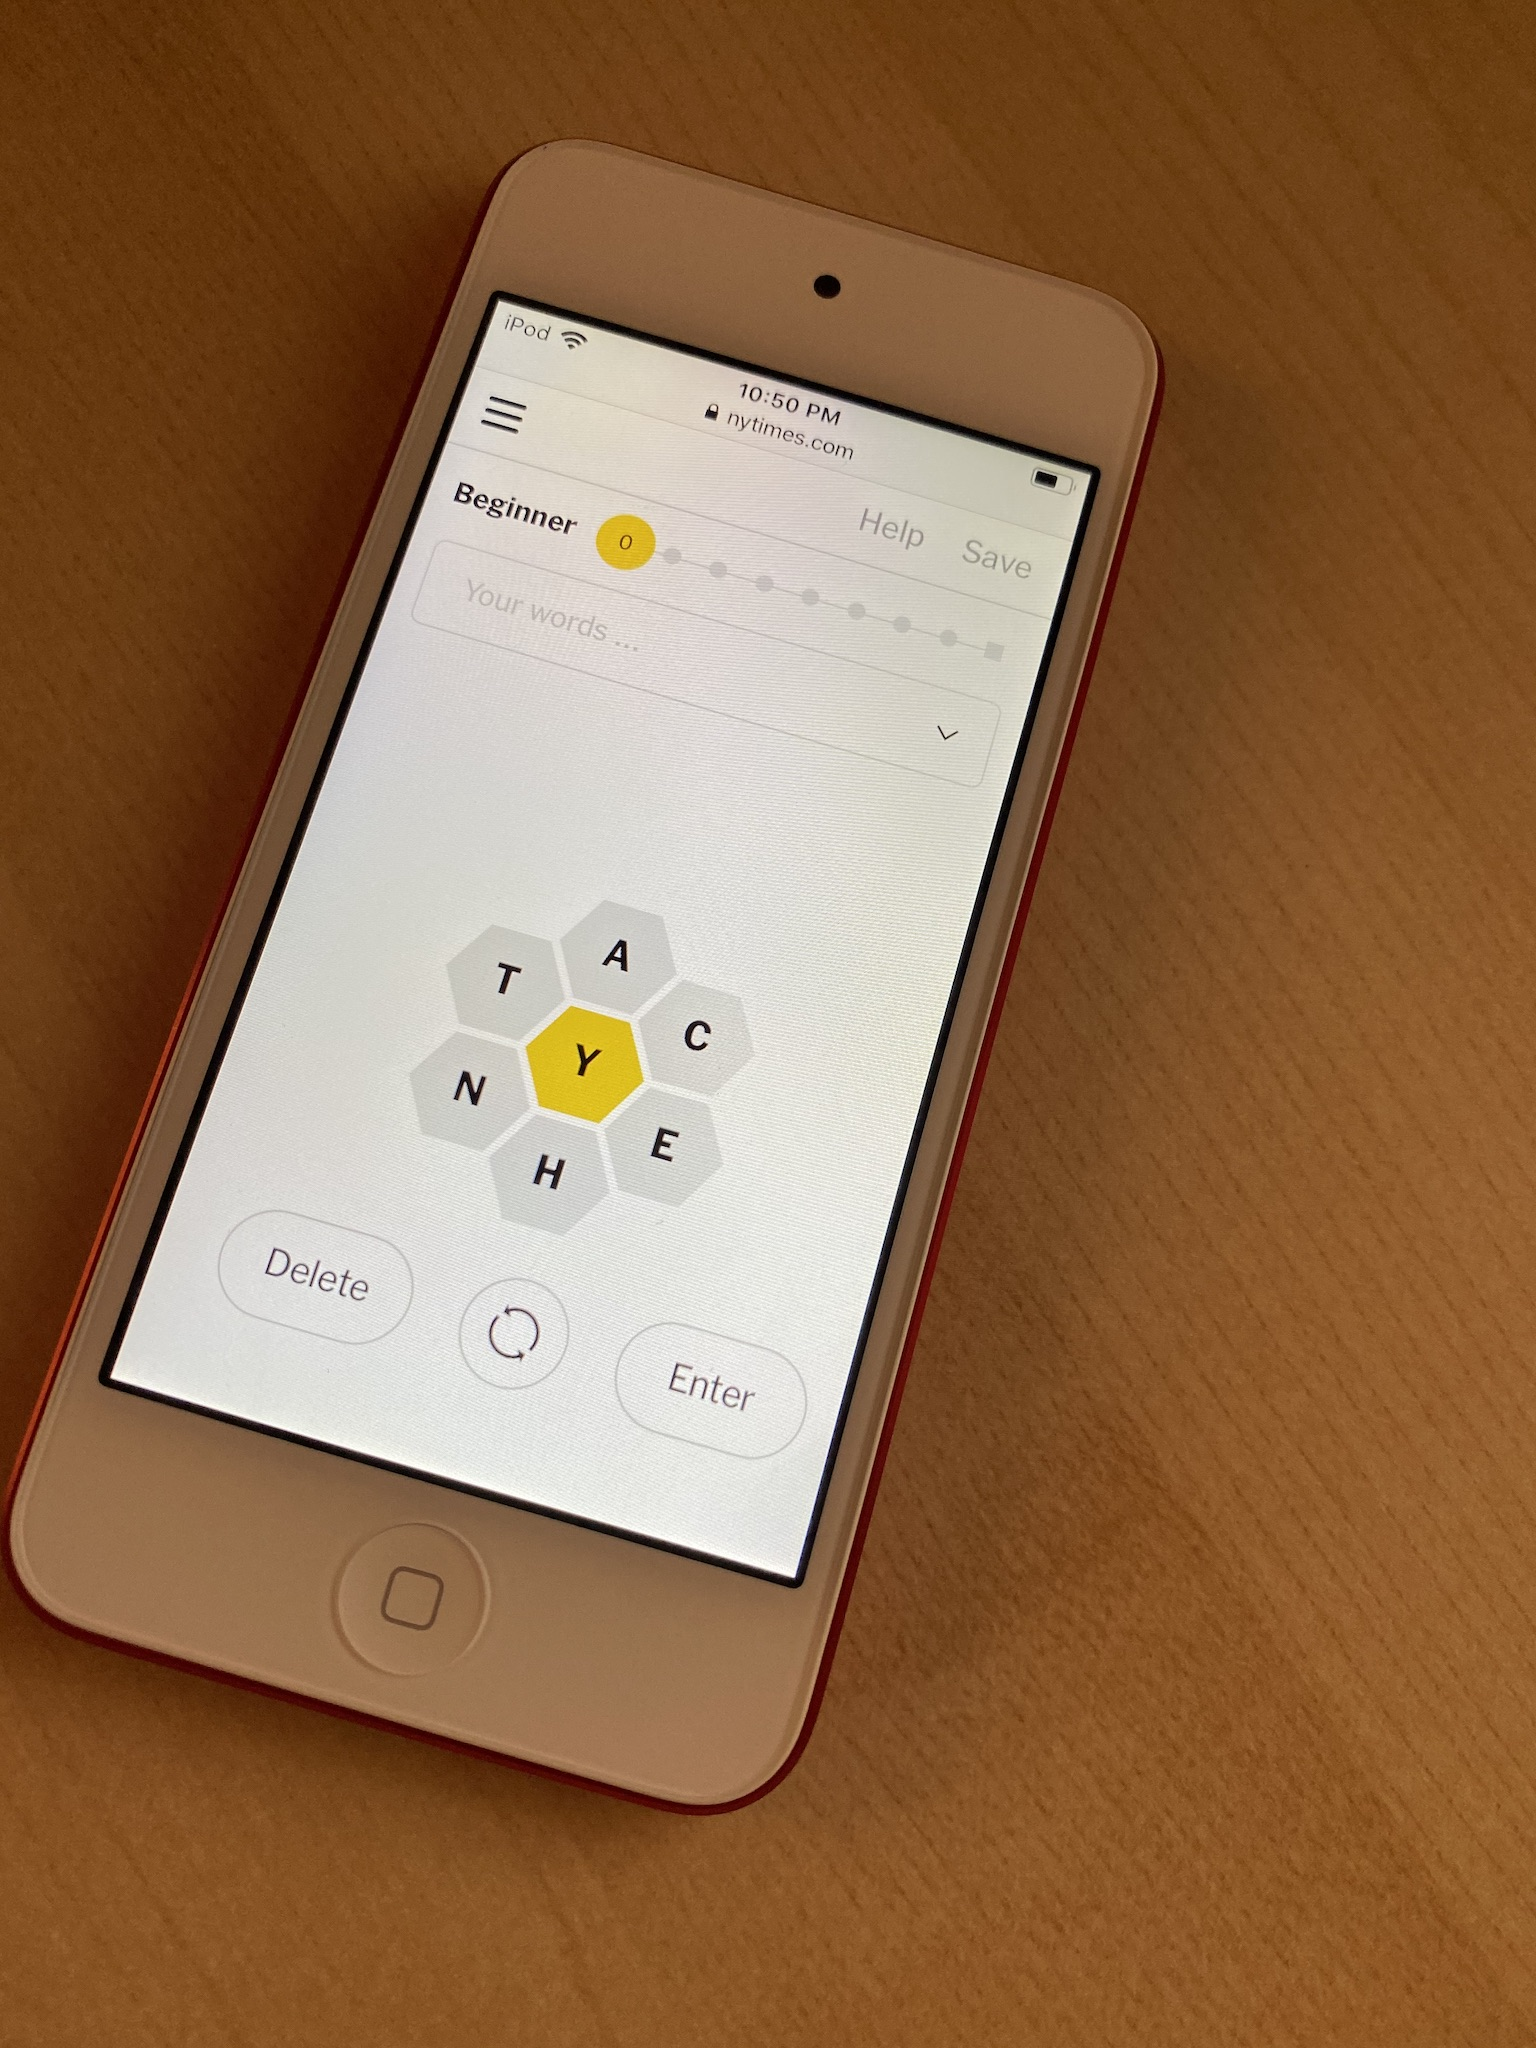Board: (353, 818, 821, 1297)
